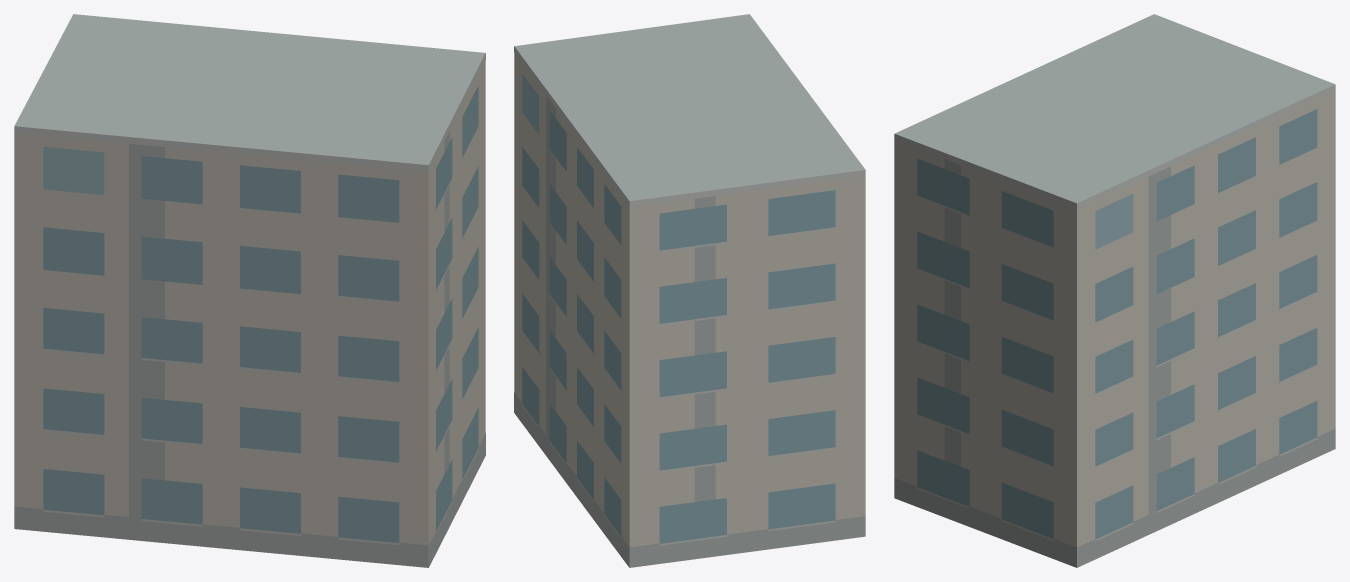
The model's file is survey-upis-32888367.glb.
3 renders of one model, left to right at view 1: azimuth 30°, elevation 25°; view 2: azimuth 150°, elevation 25°; view 3: azimuth 270°, elevation 25°, orthographic. The views are drawn at different scales.
Visible parts, largest first — view 1: survey-upis-32888367.tmp; view 2: survey-upis-32888367.tmp; view 3: survey-upis-32888367.tmp.
Boxes of the visible parts, <box> form: survey-upis-32888367.tmp: <box>14,14,485,567</box>; survey-upis-32888367.tmp: <box>514,14,865,567</box>; survey-upis-32888367.tmp: <box>894,14,1335,567</box>.
Size of the model in its own units: 16.16 by 14.5 by 15.91.
